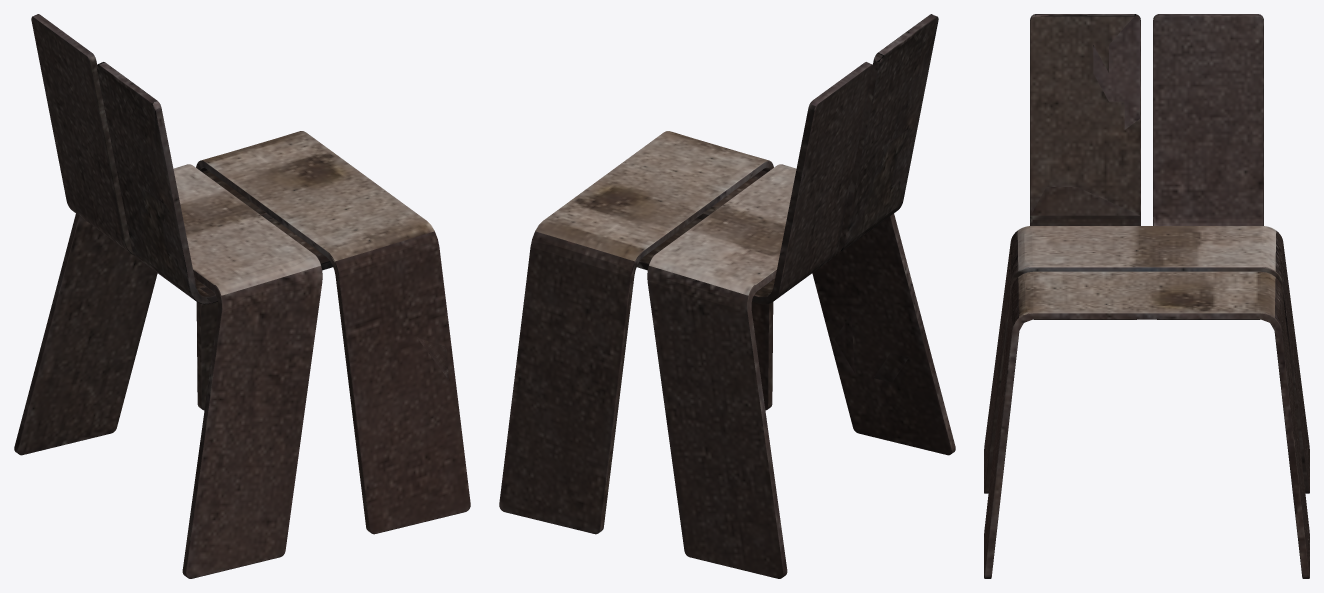
The picture shows the model from 3 angles, left to right: view 1: azimuth 30°, elevation 25°; view 2: azimuth 150°, elevation 25°; view 3: azimuth 270°, elevation 25°; orthographic projection. The views are drawn at different scales.
Visible parts, largest first — view 1: Node; view 2: Node; view 3: Node.
Boxes of the visible parts, box(x1,y1,x2,y2) form: Node: box(14, 14, 470, 578); Node: box(499, 14, 955, 578); Node: box(984, 14, 1309, 578).
Bounding box in the file's own units: 0.466 × 0.7 × 0.4769.
1 material, 1 textured.
